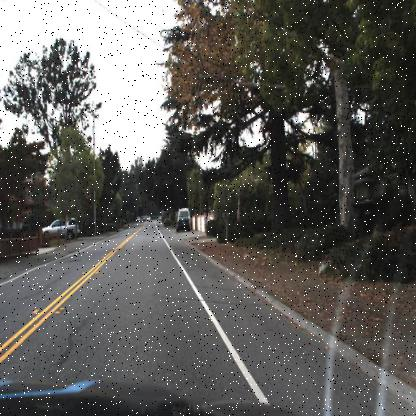car: (39, 214, 82, 242), (174, 216, 188, 234)
